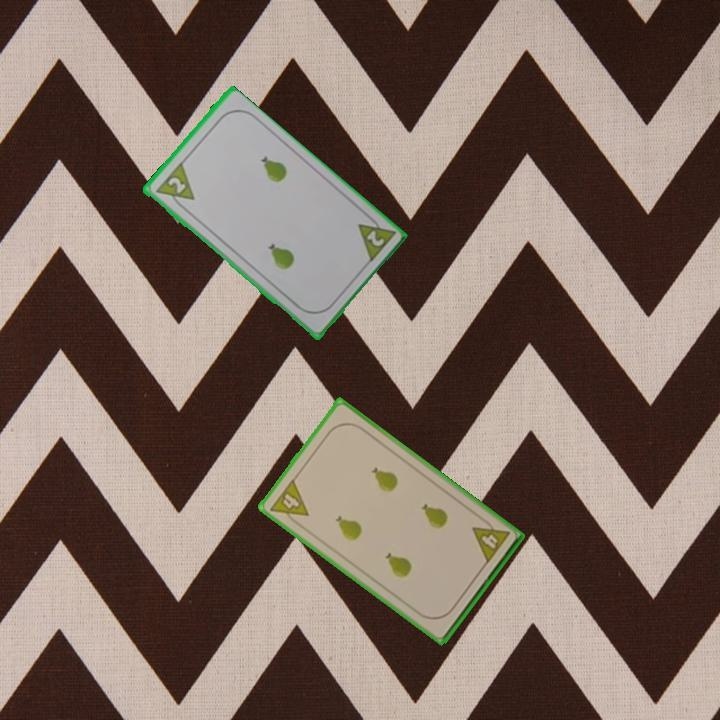2p: (151, 160, 197, 213), (354, 210, 397, 266)
4p: (266, 475, 311, 529), (467, 514, 512, 567)
